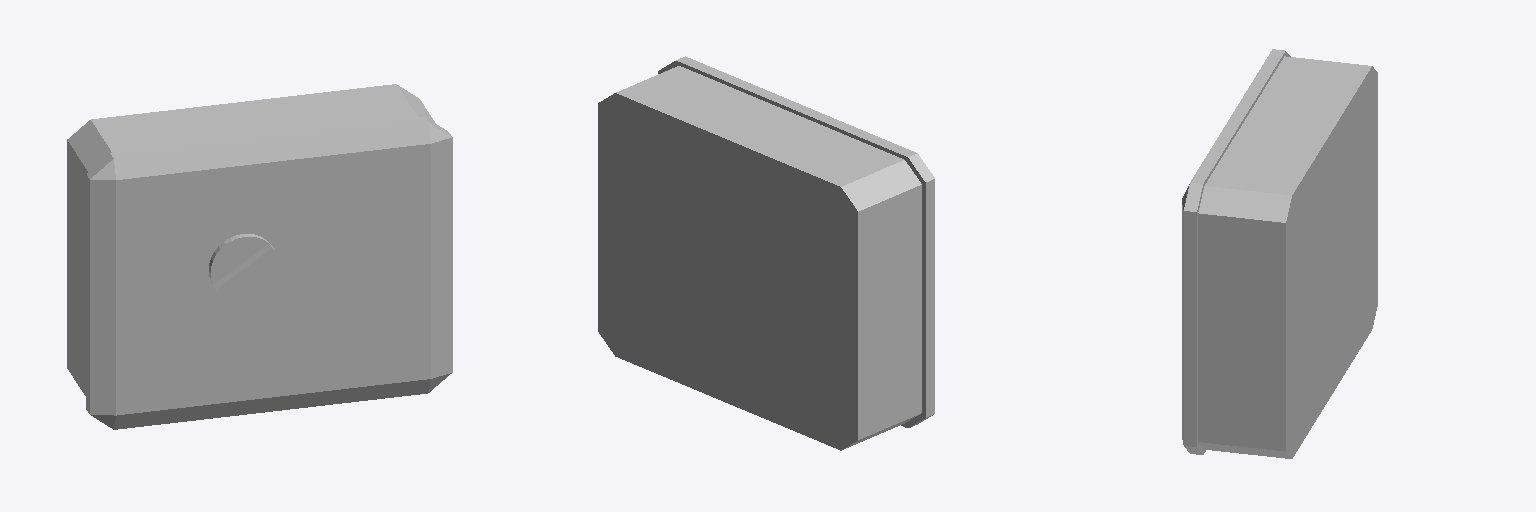
File: controlbox1.obj
3 views of the same model, side by side, from view 1: azimuth 30°, elevation 25°; view 2: azimuth 150°, elevation 25°; view 3: azimuth 270°, elevation 25° (orthographic).
Visible parts, largest first — view 1: Cube.003_Cube; view 2: Cube.003_Cube; view 3: Cube.003_Cube.
Part boxes in pixels (x1,y1,x2,y2): Cube.003_Cube: (67,84,452,429); Cube.003_Cube: (598,56,934,450); Cube.003_Cube: (1182,49,1377,458).
Bounding box in the file's own units: 0.4113 × 0.3196 × 0.2103.